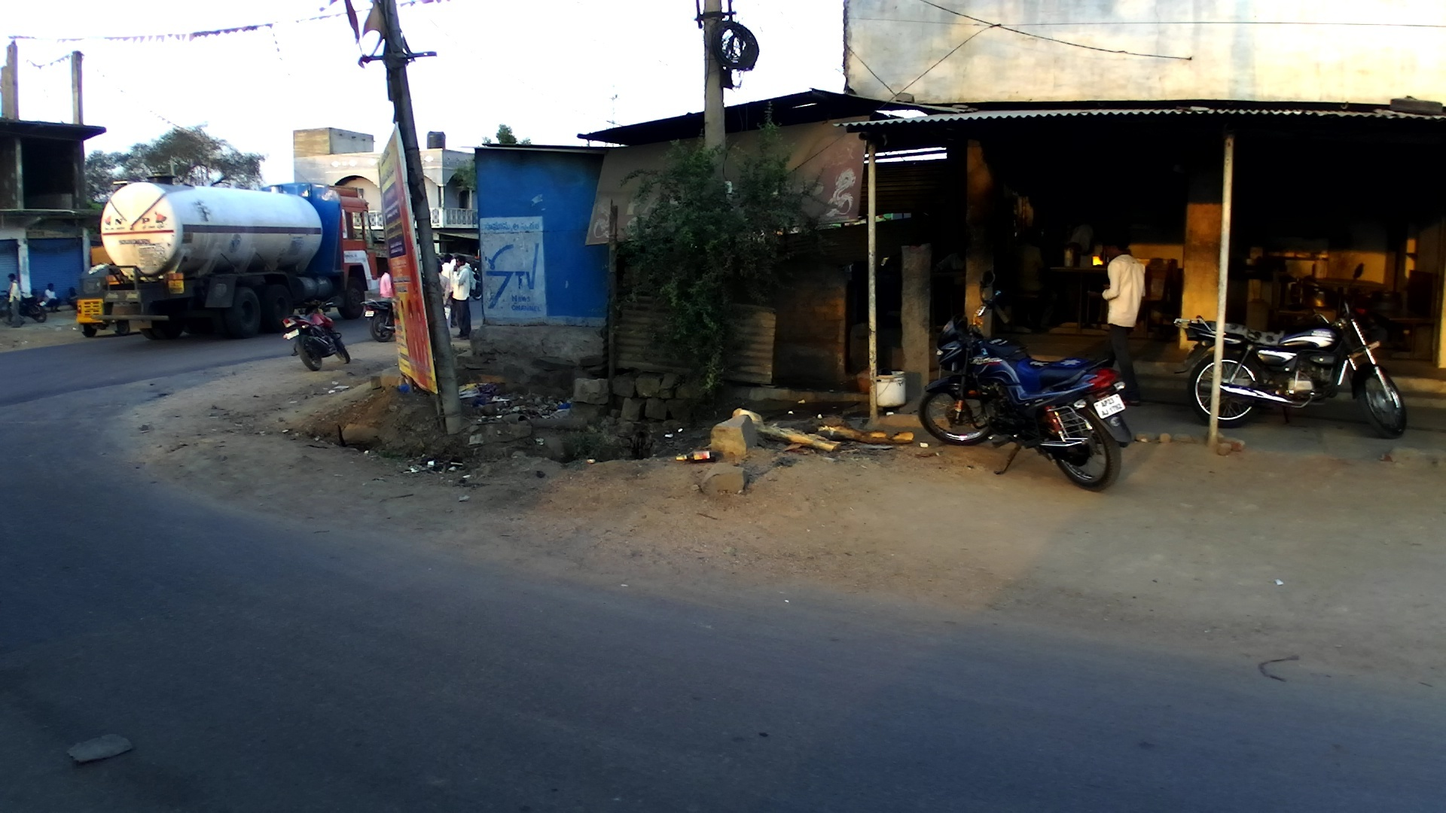autorickshaw: (76, 263, 138, 338)
motorcycle: (919, 269, 1133, 495), (1174, 260, 1409, 441), (275, 295, 351, 370), (358, 291, 401, 343), (4, 291, 50, 326), (468, 260, 487, 301)
person: (1098, 239, 1145, 404), (450, 257, 475, 339), (4, 270, 23, 327), (437, 261, 456, 315), (44, 282, 62, 314), (441, 251, 456, 285), (66, 286, 79, 309)
rider: (379, 269, 398, 322)
truck: (90, 171, 377, 340)
